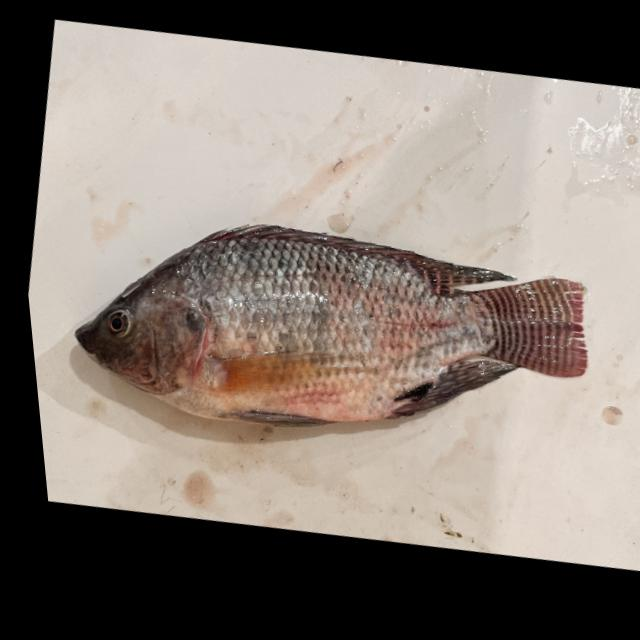Tilapia: (45, 166, 615, 500)
